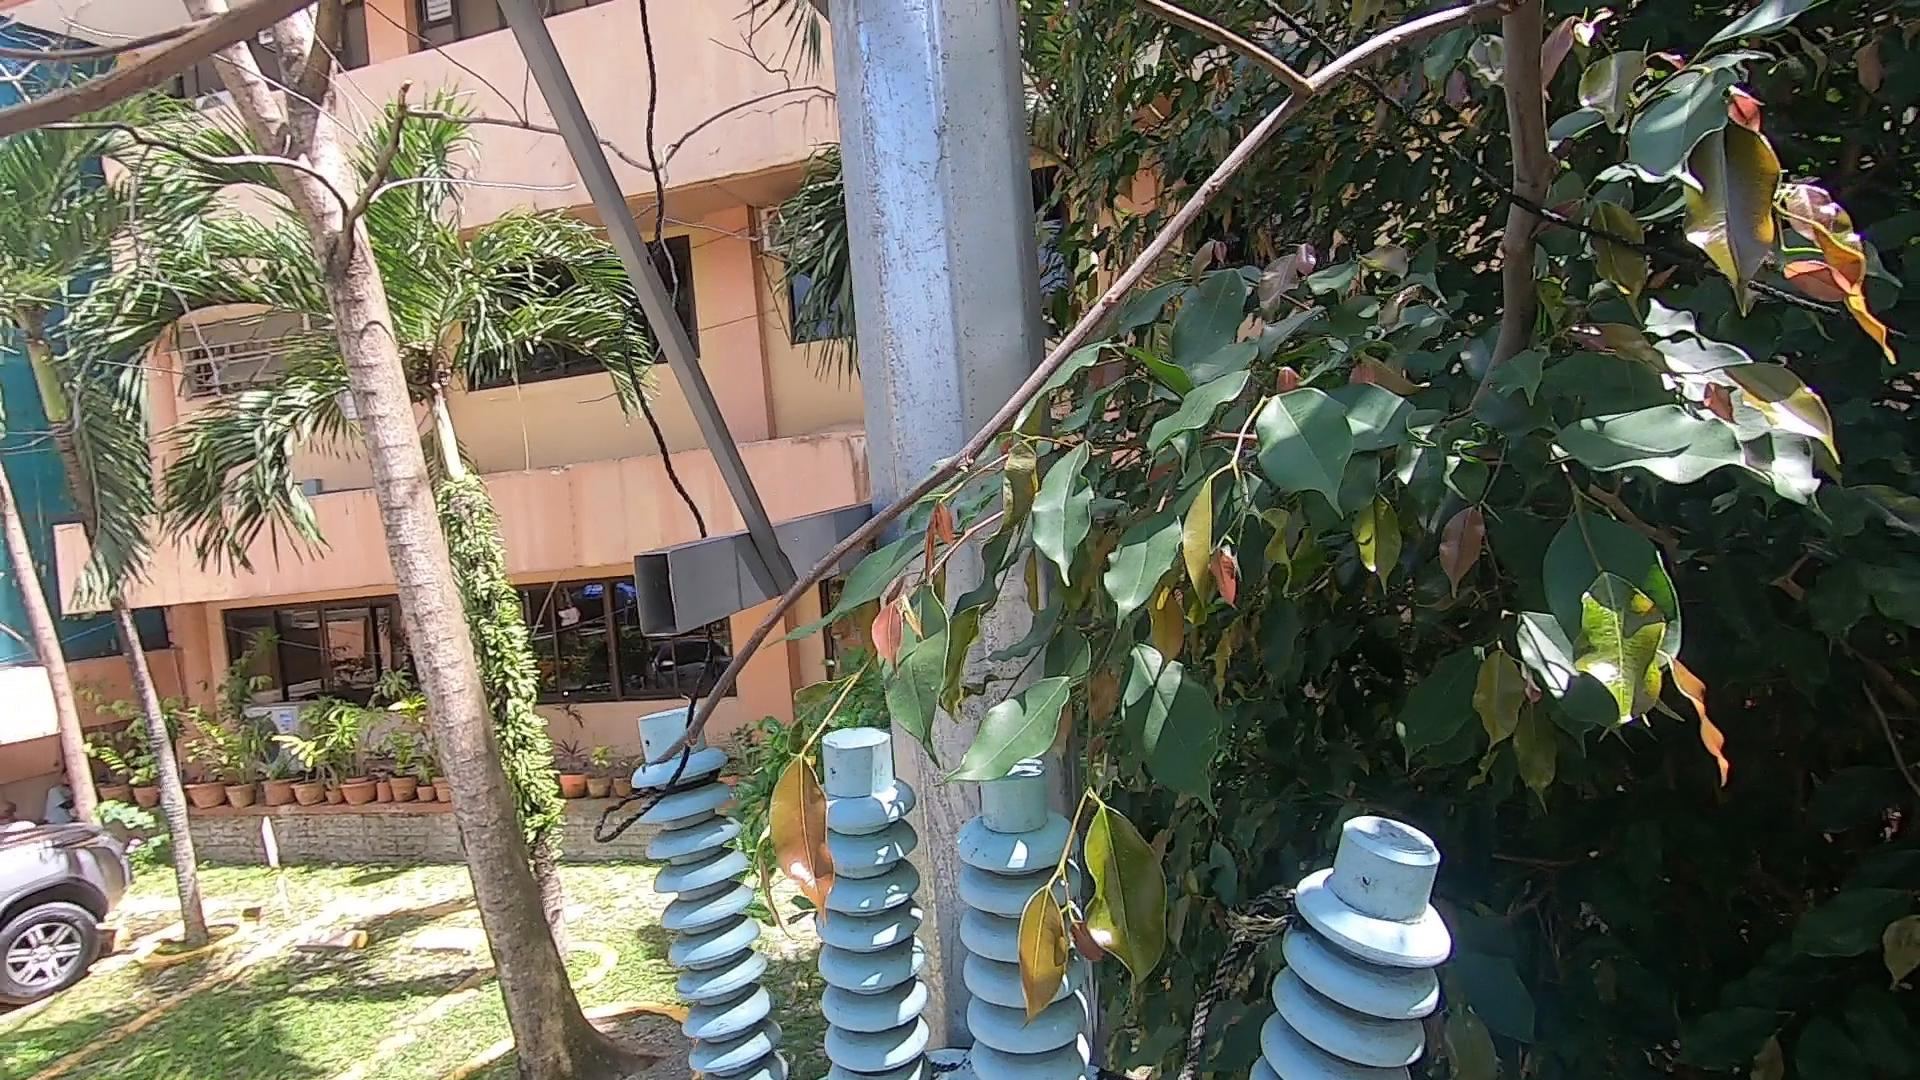tree branch: (655, 1, 1611, 789)
